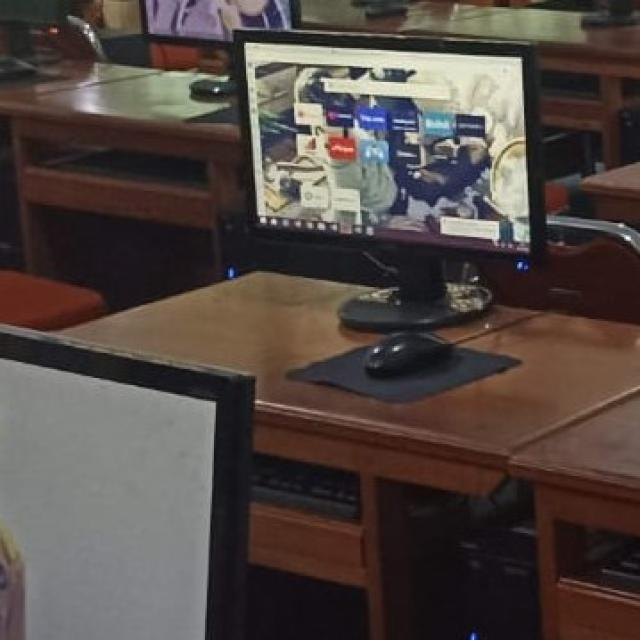onscreen: (235, 31, 544, 253)
